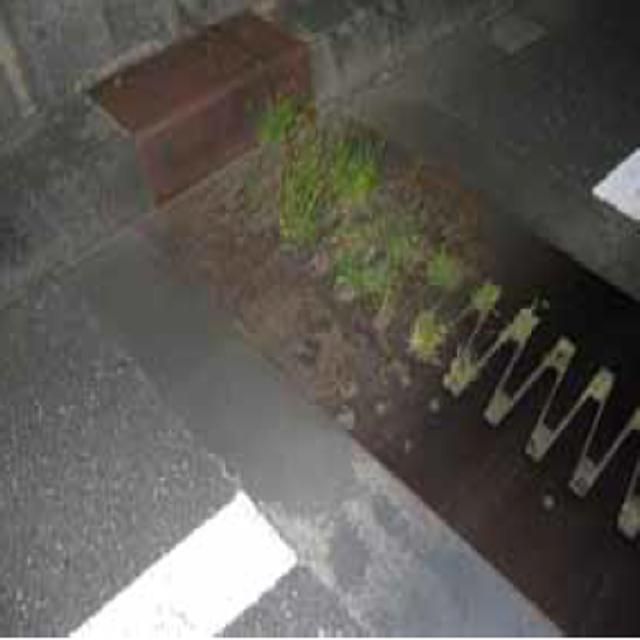corrosion: (84, 37, 616, 517)
